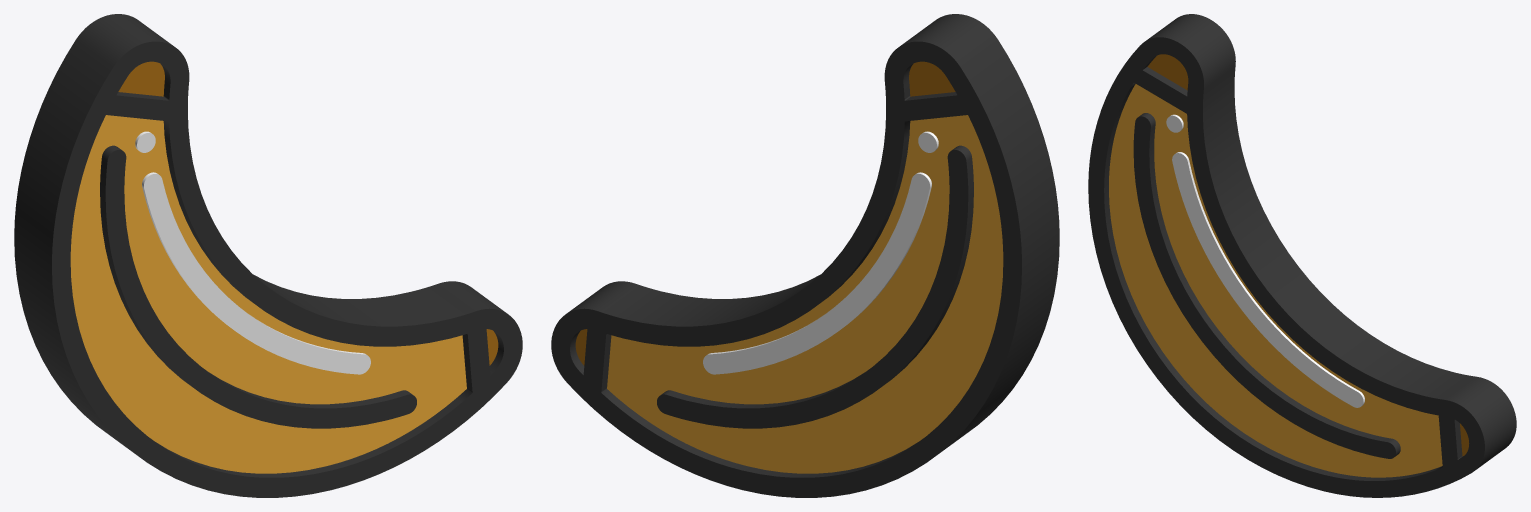
Rendered from Banana.fbx.
3 views of the same model, side by side, from view 1: azimuth 30°, elevation 25°; view 2: azimuth 150°, elevation 25°; view 3: azimuth 330°, elevation 25° (orthographic). The views are drawn at different scales.
Parts seen in each view (by area): view 1: Curve.006, Curve.002, Curve.007, Curve.004, Curve.001; view 2: Curve.006, Curve.002, Curve.007, Curve.004, Curve.001; view 3: Curve.006, Curve.002, Curve.007, Curve.004, Curve.001.
Boxes of the visible parts, x1,y1,x2,y2 form: Curve.006: (14, 14, 522, 497); Curve.002: (70, 115, 466, 473); Curve.007: (100, 145, 416, 428); Curve.004: (142, 172, 370, 374); Curve.001: (118, 61, 164, 96); Curve.006: (551, 14, 1059, 497); Curve.002: (607, 115, 1003, 473); Curve.007: (657, 145, 973, 428); Curve.004: (703, 172, 931, 374); Curve.001: (909, 61, 955, 96); Curve.006: (1088, 14, 1516, 497); Curve.002: (1109, 84, 1442, 477); Curve.007: (1133, 113, 1400, 458); Curve.004: (1172, 152, 1364, 407); Curve.001: (1147, 54, 1188, 90).
Bounding box in the file's own units: 144 × 144 × 20.01.
